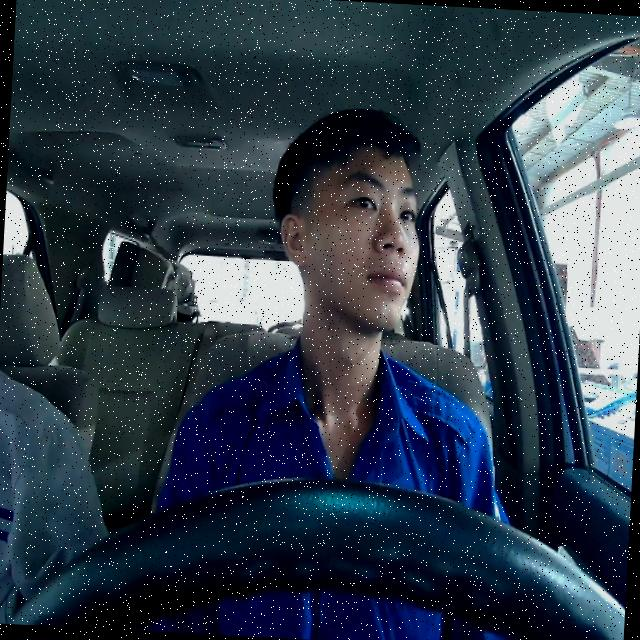seeing_right: (272, 138, 426, 332)
